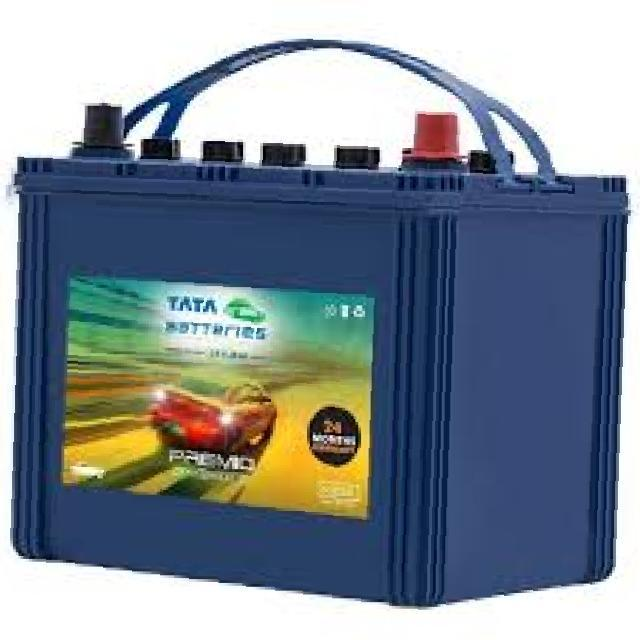Battery: (0, 32, 638, 607)
